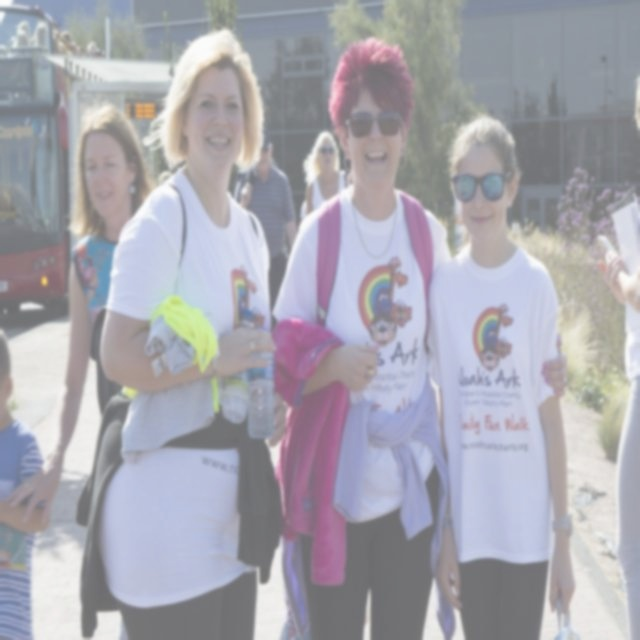pessoa: (73, 26, 287, 640), (272, 36, 453, 640), (422, 110, 585, 639), (10, 104, 151, 526), (590, 67, 640, 640), (0, 320, 54, 640), (234, 126, 299, 336), (0, 18, 110, 72), (302, 130, 348, 218), (157, 166, 172, 186)
